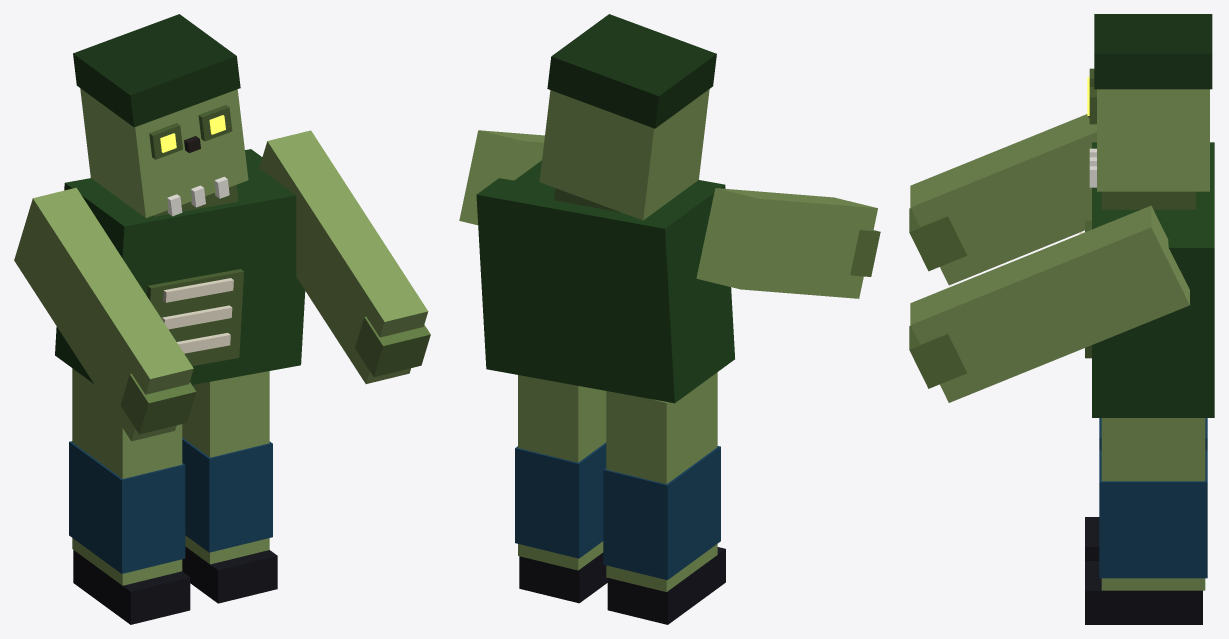
The model's file is monsters__zombie.glb.
3 views of the same model, side by side, from view 1: azimuth 30°, elevation 25°; view 2: azimuth 150°, elevation 25°; view 3: azimuth 270°, elevation 25° (orthographic). The views are drawn at different scales.
Visible parts, largest first — view 1: monsters__zombie, rig_armL, rig_legL, rig_armR, rig_legR; view 2: monsters__zombie, rig_legL, rig_legR, rig_armL, rig_armR; view 3: monsters__zombie, rig_armR, rig_legR, rig_armL, rig_legL.
Part boxes in pixels (box(x1,y1,x2,y2)): monsters__zombie: box(55, 14, 305, 384); rig_armL: box(14, 187, 196, 441); rig_legL: box(69, 368, 190, 624); rig_armR: box(259, 130, 430, 383); rig_legR: box(182, 371, 277, 603); monsters__zombie: box(476, 14, 734, 403); rig_legL: box(603, 372, 725, 624); rig_legR: box(515, 375, 607, 603); rig_armL: box(696, 188, 880, 298); rig_armR: box(459, 130, 544, 225); monsters__zombie: box(1079, 14, 1214, 417); rig_armR: box(909, 205, 1189, 402); rig_legR: box(1085, 418, 1207, 624); rig_armL: box(909, 114, 1096, 285); rig_legL: box(1085, 418, 1207, 560).
Size of the model in its own units: 1.42 by 2.59 by 1.3.
